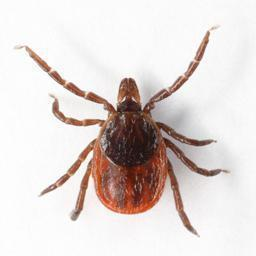Ixodes scapularis: (13, 24, 226, 237)
